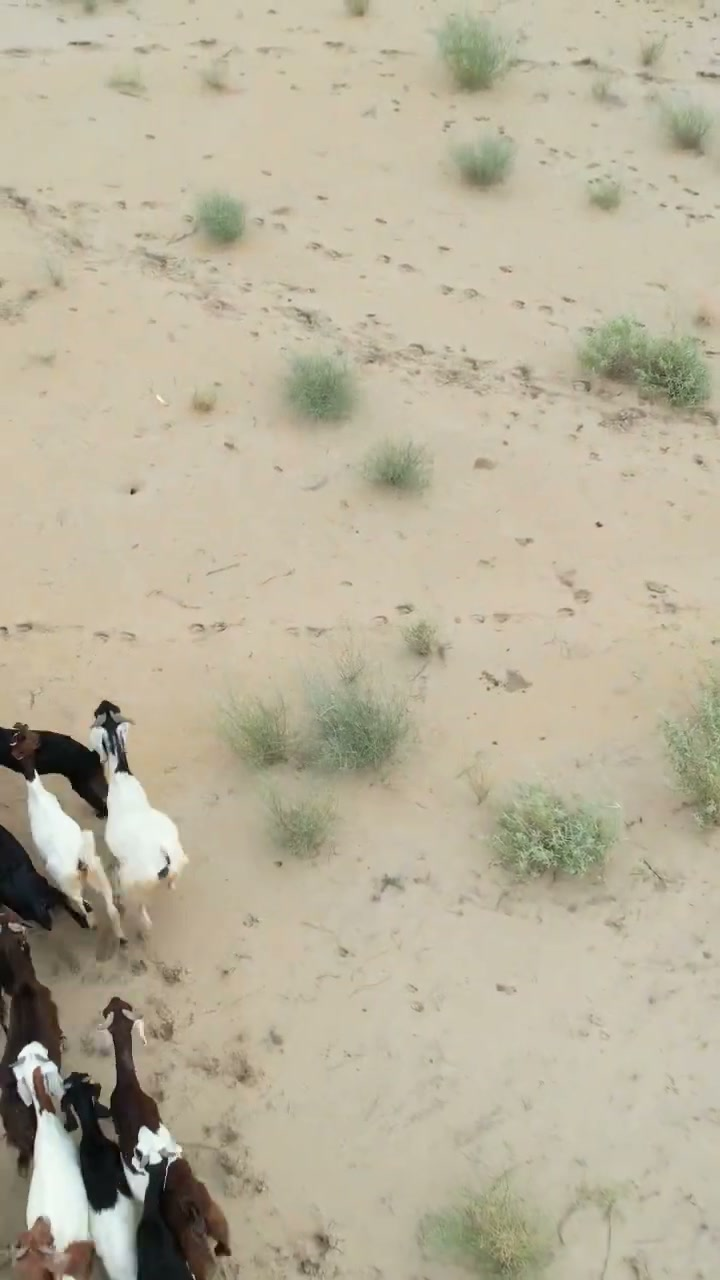animal_foot_print: (118, 883, 342, 1262)
